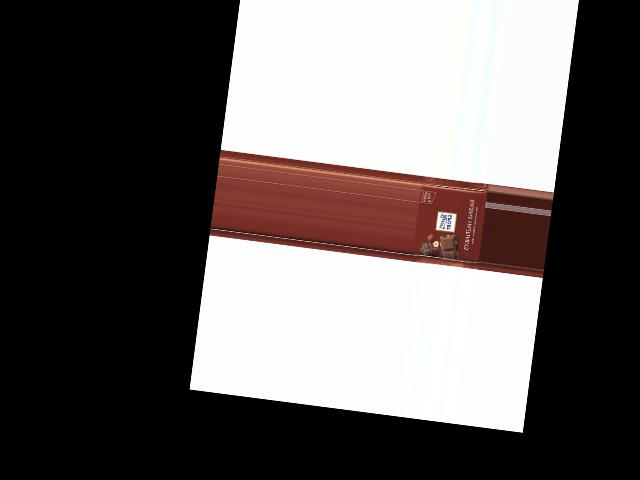chocolate: (411, 175, 489, 271)
